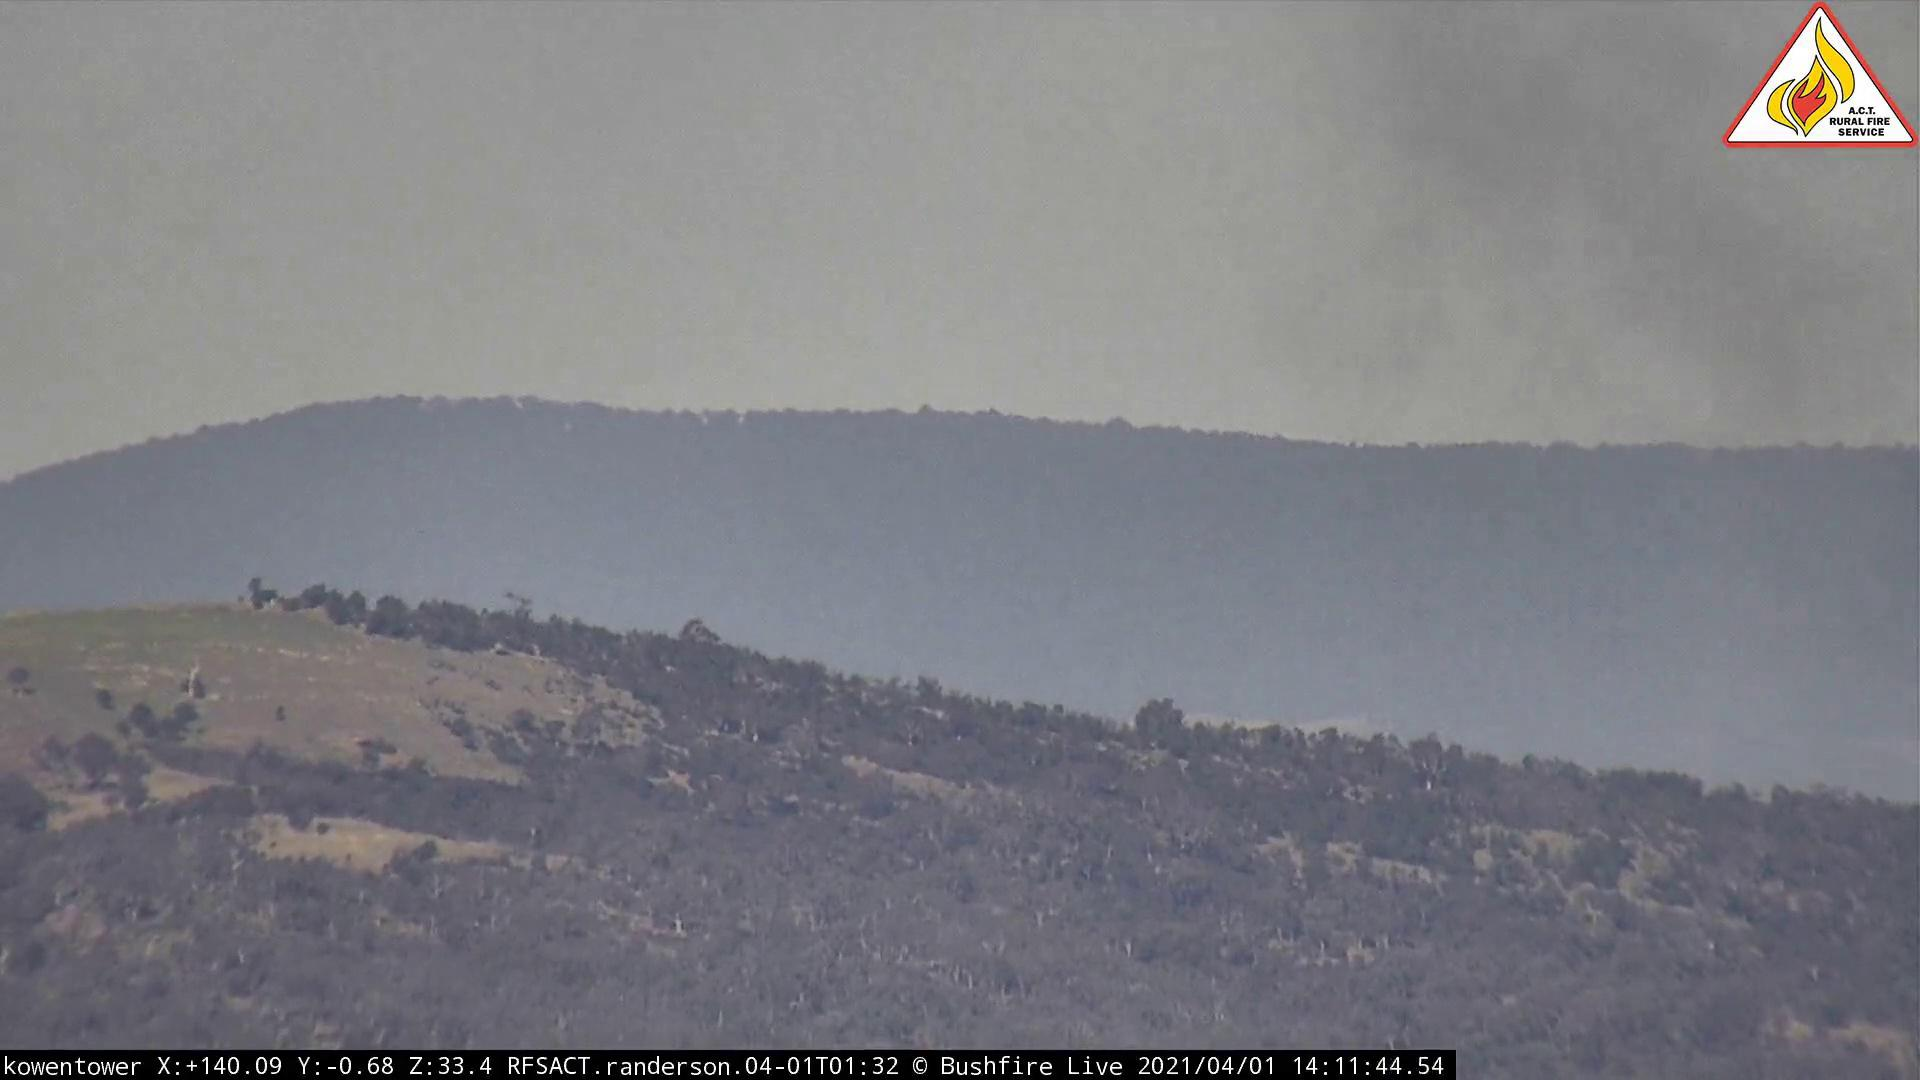Smoke: (1241, 178, 1920, 764)
